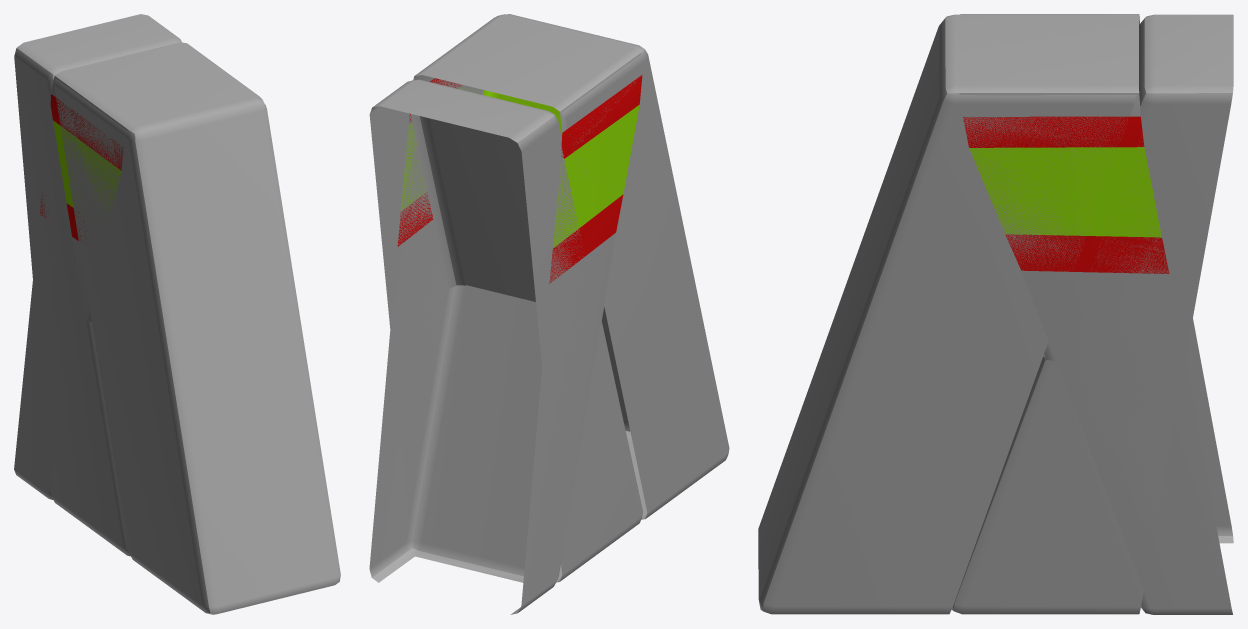
The model's file is renfort.fbx.
3 renders of one model, left to right at view 1: azimuth 30°, elevation 25°; view 2: azimuth 150°, elevation 25°; view 3: azimuth 270°, elevation 25°, orthographic. The views are drawn at different scales.
Visible parts, largest first — view 1: renfort_1_1, renfort_2_1, renfort_3_1; view 2: renfort_3_1, renfort_2_1, renfort_1_1; view 3: renfort_1_1, renfort_3_1, renfort_2_1.
Part boxes in pixels (left/top/right/bottom): renfort_1_1: left=54, top=42, right=340, bottom=614; renfort_2_1: left=14, top=14, right=181, bottom=556; renfort_3_1: left=14, top=42, right=260, bottom=499; renfort_3_1: left=369, top=15, right=642, bottom=614; renfort_2_1: left=369, top=79, right=642, bottom=582; renfort_1_1: left=415, top=14, right=729, bottom=519; renfort_1_1: left=758, top=14, right=1138, bottom=614; renfort_3_1: left=958, top=14, right=1233, bottom=614; renfort_2_1: left=951, top=14, right=1233, bottom=614.
Bounding box in the file's own units: 100 × 300 × 244.
